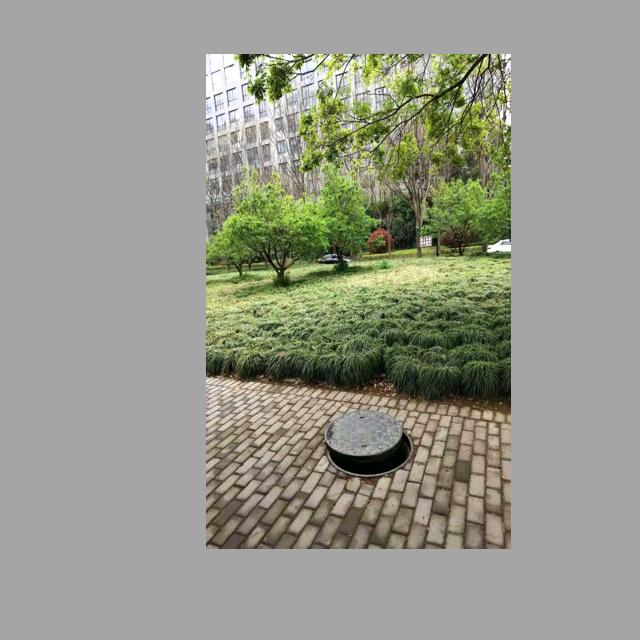uncovered: (316, 400, 419, 488)
